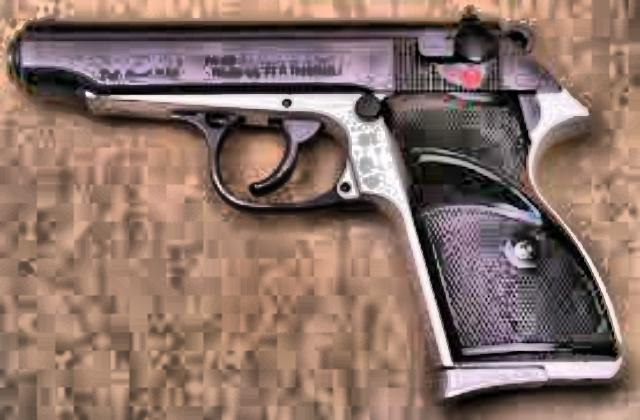pistol: (8, 7, 626, 395)
